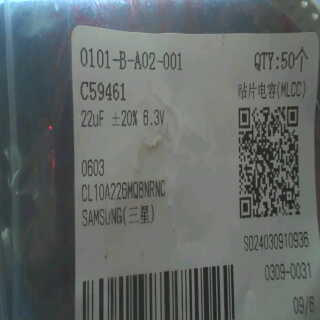22uF: (78, 108, 107, 130)
